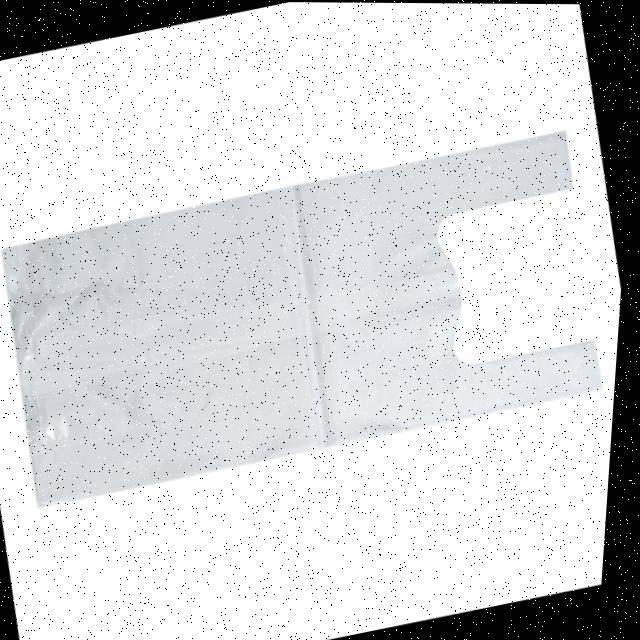plastic_bag: (0, 99, 635, 529)
